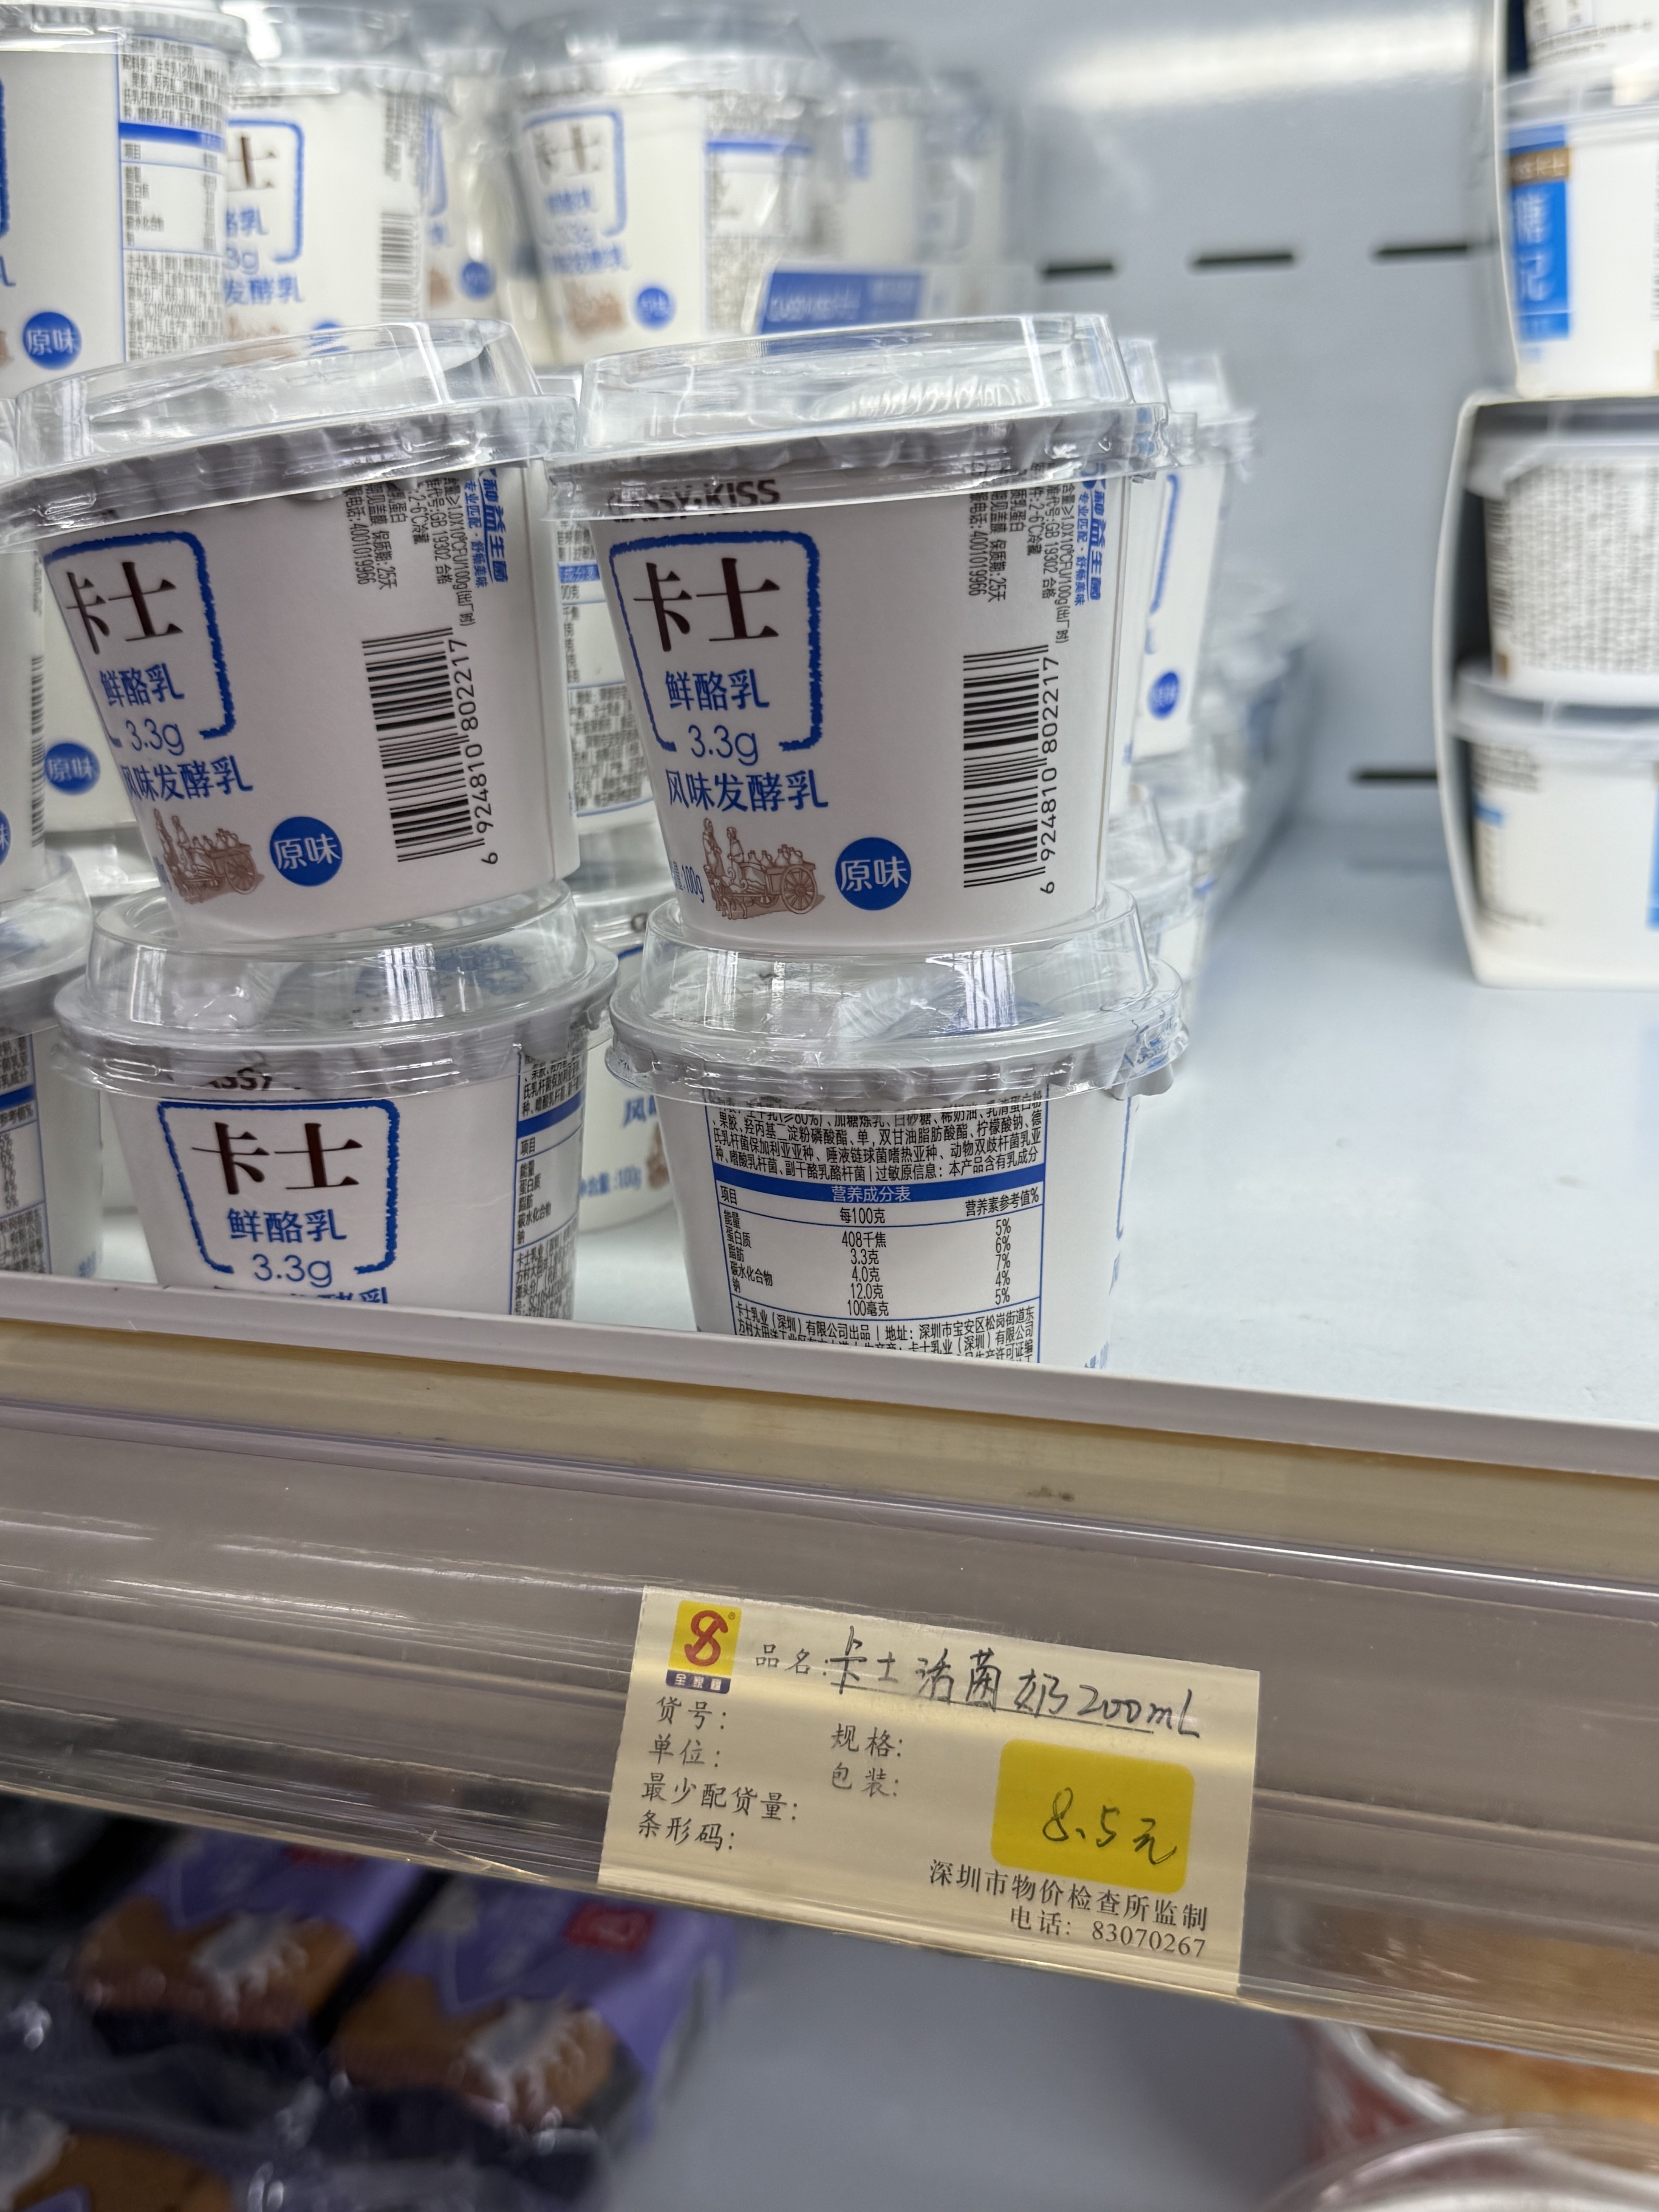bar: (349, 618, 502, 867), (950, 637, 1051, 895)
